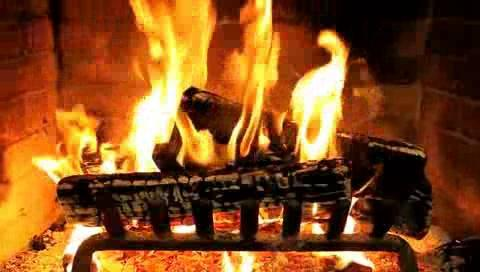fire: (119, 3, 352, 186)
